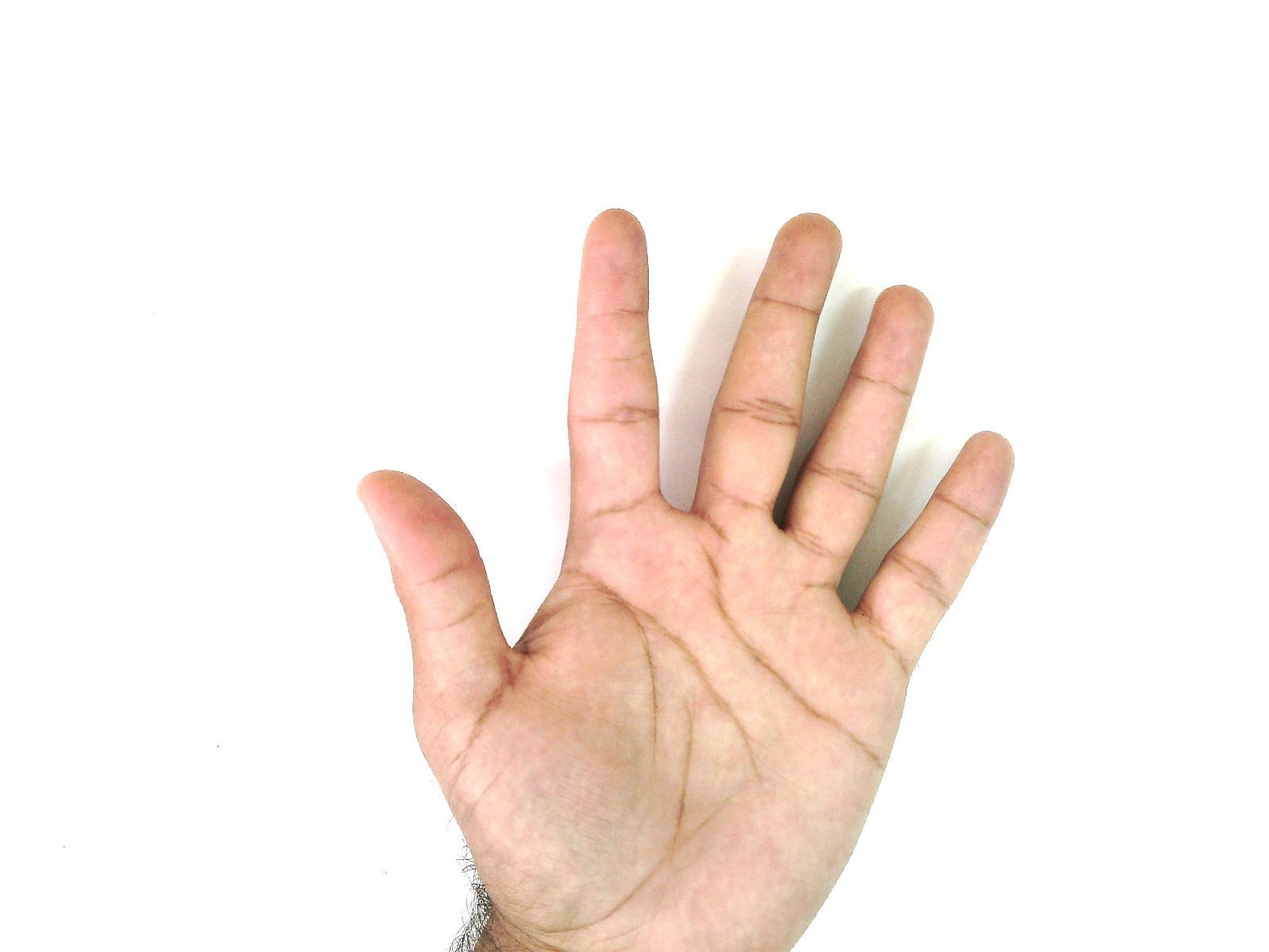open_palm: (355, 206, 1018, 951)
